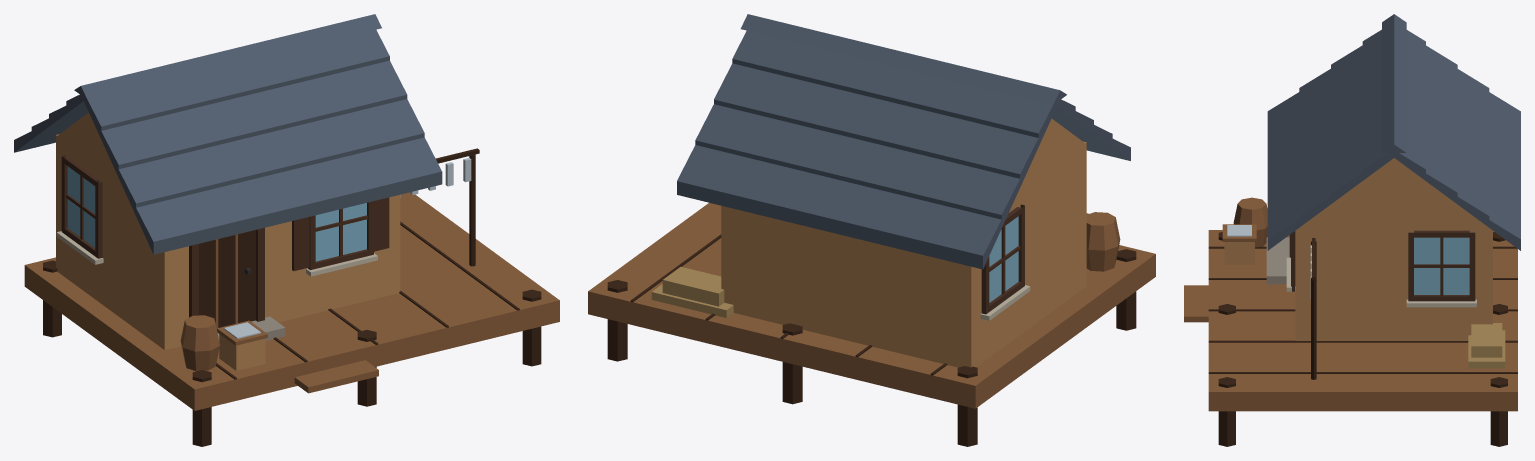
Rendered from house_09_fisher_house.fbx.
The picture shows the model from 3 angles, left to right: view 1: azimuth 30°, elevation 25°; view 2: azimuth 150°, elevation 25°; view 3: azimuth 270°, elevation 25°; orthographic projection. The views are drawn at different scales.
Visible parts, largest first — view 1: house_09_fisher_house; view 2: house_09_fisher_house; view 3: house_09_fisher_house.
Boxes of the visible parts, x1,y1,x2,y2 form: house_09_fisher_house: [14, 14, 559, 446]; house_09_fisher_house: [588, 14, 1155, 446]; house_09_fisher_house: [1184, 14, 1520, 446].
Bounding box in the file's own units: 6.4 × 4.81 × 5.45.
